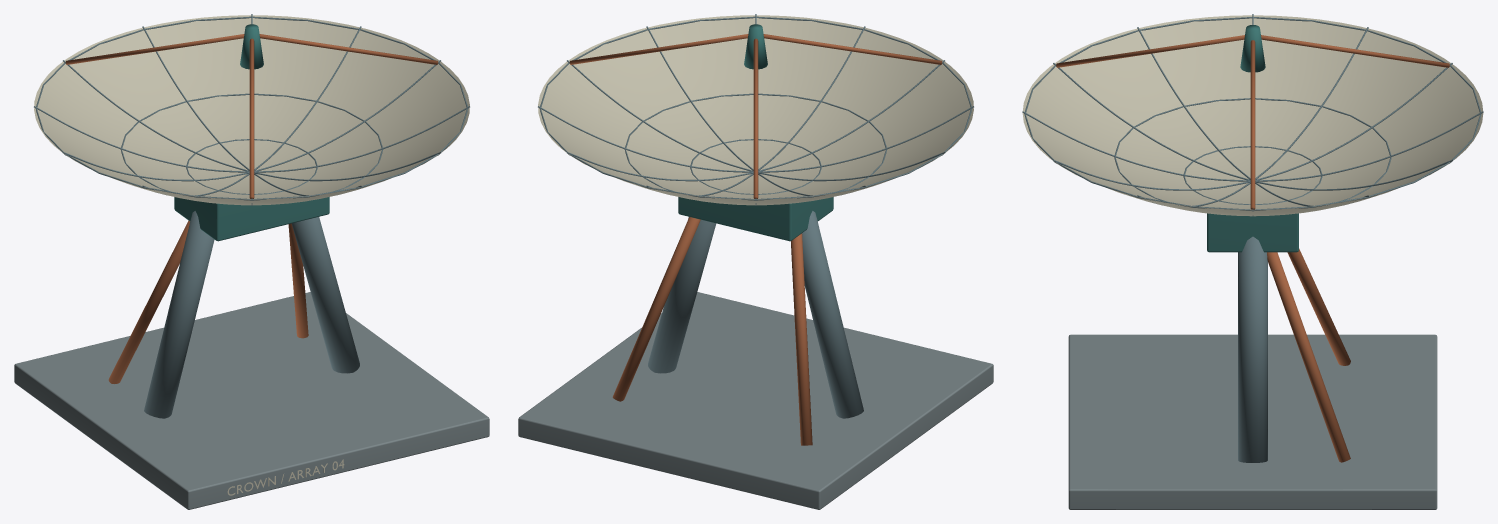
Rendered from survey_dish.glb.
3 views of the same model, side by side, from view 1: azimuth 30°, elevation 25°; view 2: azimuth 150°, elevation 25°; view 3: azimuth 270°, elevation 25° (orthographic). The views are drawn at different scales.
Parts seen in each view (by area): view 1: survey_dish; view 2: survey_dish; view 3: survey_dish.
Part boxes in pixels (x1,y1,x2,y2): survey_dish: (14, 14, 489, 509); survey_dish: (518, 14, 993, 509); survey_dish: (1022, 14, 1483, 509).
Bounding box in the file's own units: 20.04 × 19.4 × 20.04.
